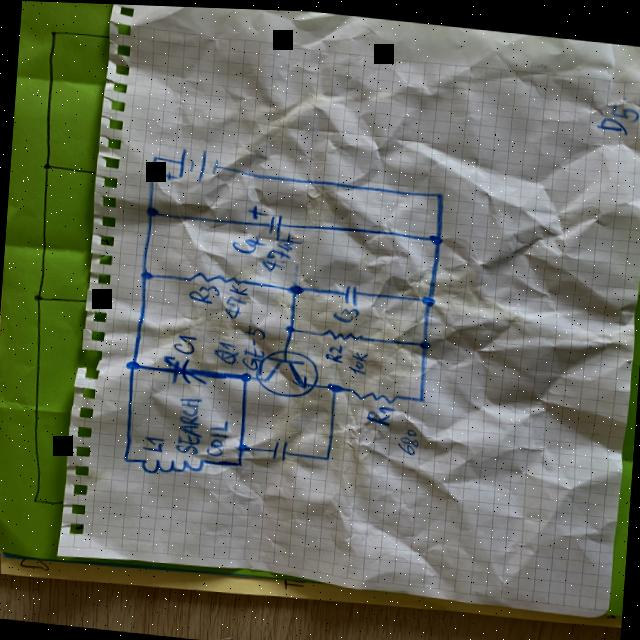capacitor: (160, 352, 210, 385), (246, 203, 284, 236), (339, 279, 362, 304), (268, 435, 290, 460)
inductor: (138, 449, 207, 478)
junction: (286, 278, 306, 294), (418, 289, 438, 304), (123, 356, 142, 371), (237, 368, 254, 382), (326, 377, 343, 391), (142, 203, 160, 216), (428, 229, 444, 242), (416, 335, 432, 347), (282, 320, 298, 332), (138, 268, 154, 279), (235, 440, 252, 450), (321, 449, 332, 459), (233, 457, 245, 466), (120, 453, 132, 462), (433, 186, 445, 195), (416, 391, 426, 399), (151, 152, 159, 159)
resistor: (186, 267, 248, 285), (352, 383, 401, 402), (321, 324, 364, 340)
source: (161, 142, 220, 184)
text: (172, 391, 205, 454), (260, 229, 304, 272), (202, 414, 234, 457), (240, 321, 267, 369), (224, 281, 248, 318), (230, 230, 266, 253), (396, 422, 422, 453), (187, 280, 220, 302), (170, 330, 198, 355), (212, 338, 240, 363), (365, 400, 394, 424), (330, 301, 360, 321), (346, 346, 369, 372), (140, 432, 166, 451), (324, 340, 345, 362)
transistor: (254, 344, 320, 397)
